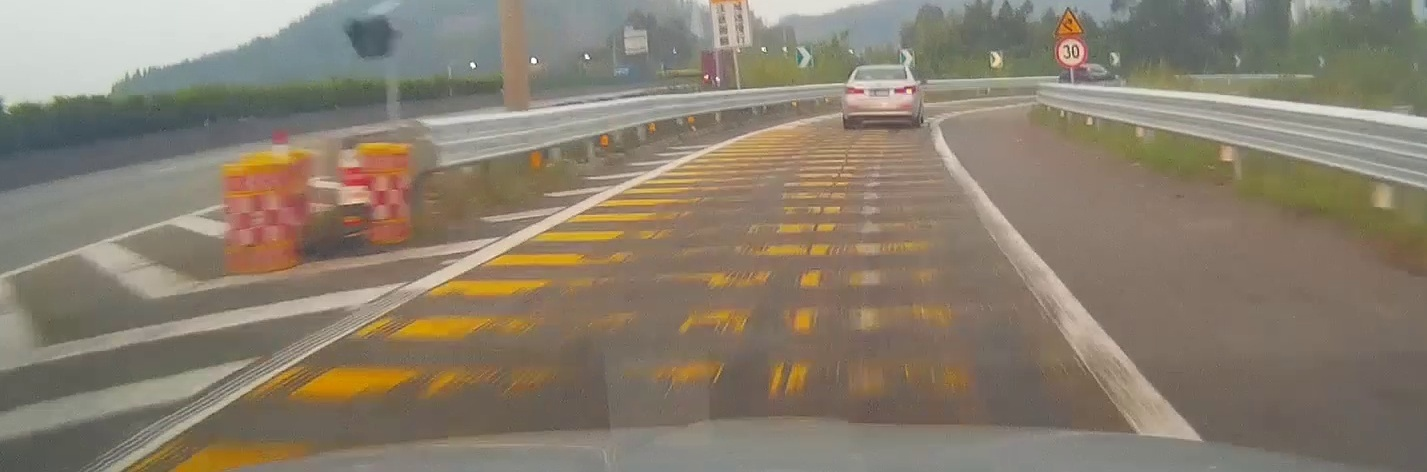L_light: (843, 87, 865, 94)
R_light: (894, 85, 917, 95)
T_light: (873, 69, 887, 73)
day-right: (842, 64, 918, 129)
